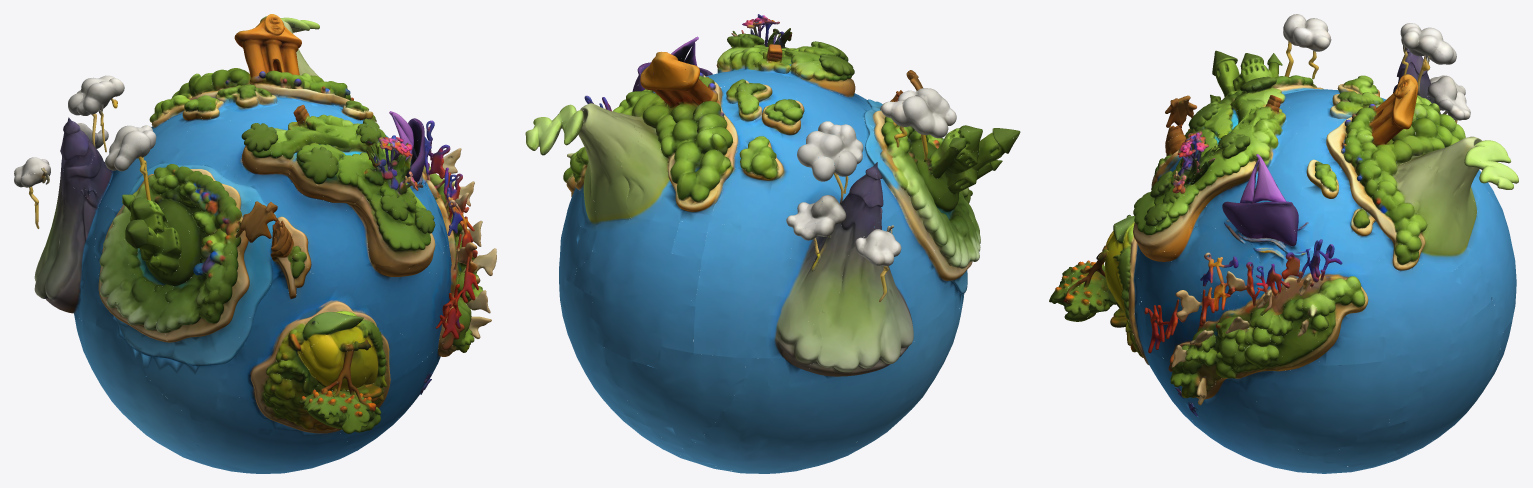
Rendered from planeta.glb.
3 renders of one model, left to right at view 1: azimuth 30°, elevation 25°; view 2: azimuth 150°, elevation 25°; view 3: azimuth 270°, elevation 25°, orthographic. The views are drawn at different scales.
Parts seen in each view (by area): view 1: SM_Planeta; view 2: SM_Planeta; view 3: SM_Planeta.
Part boxes in pixels (x1,y1,x2,y2): SM_Planeta: [14, 14, 496, 473]; SM_Planeta: [525, 14, 1020, 473]; SM_Planeta: [1049, 14, 1518, 473].
Size of the model in its own units: 2.19 by 2.19 by 2.34.
Materials: 1 (1 with a texture image).
